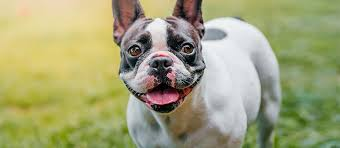Bulldog: (99, 1, 284, 146)
